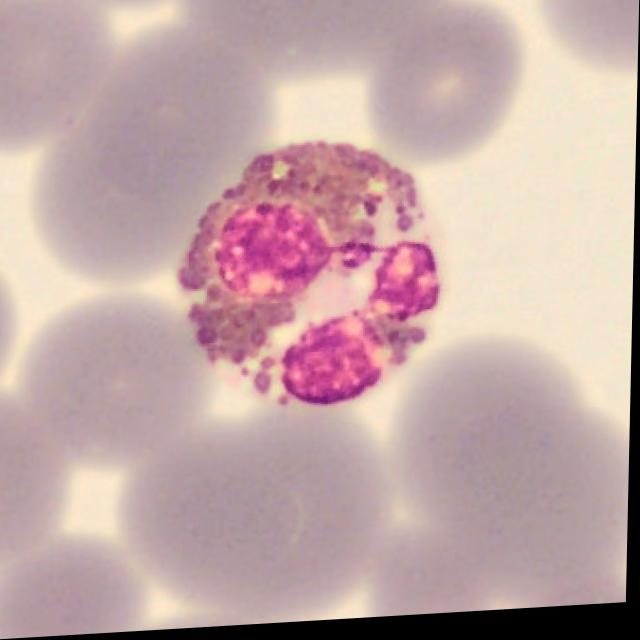Eosinofilo: (177, 147, 444, 414)
